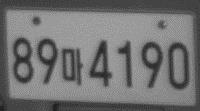0: (166, 41, 190, 90)
1: (116, 40, 134, 89)
4: (88, 38, 112, 89)
8: (11, 37, 34, 83)
9: (140, 40, 164, 89), (37, 37, 58, 86)
마: (60, 46, 83, 87)
